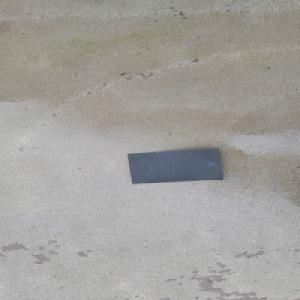PaintChip: (127, 147, 225, 184)
